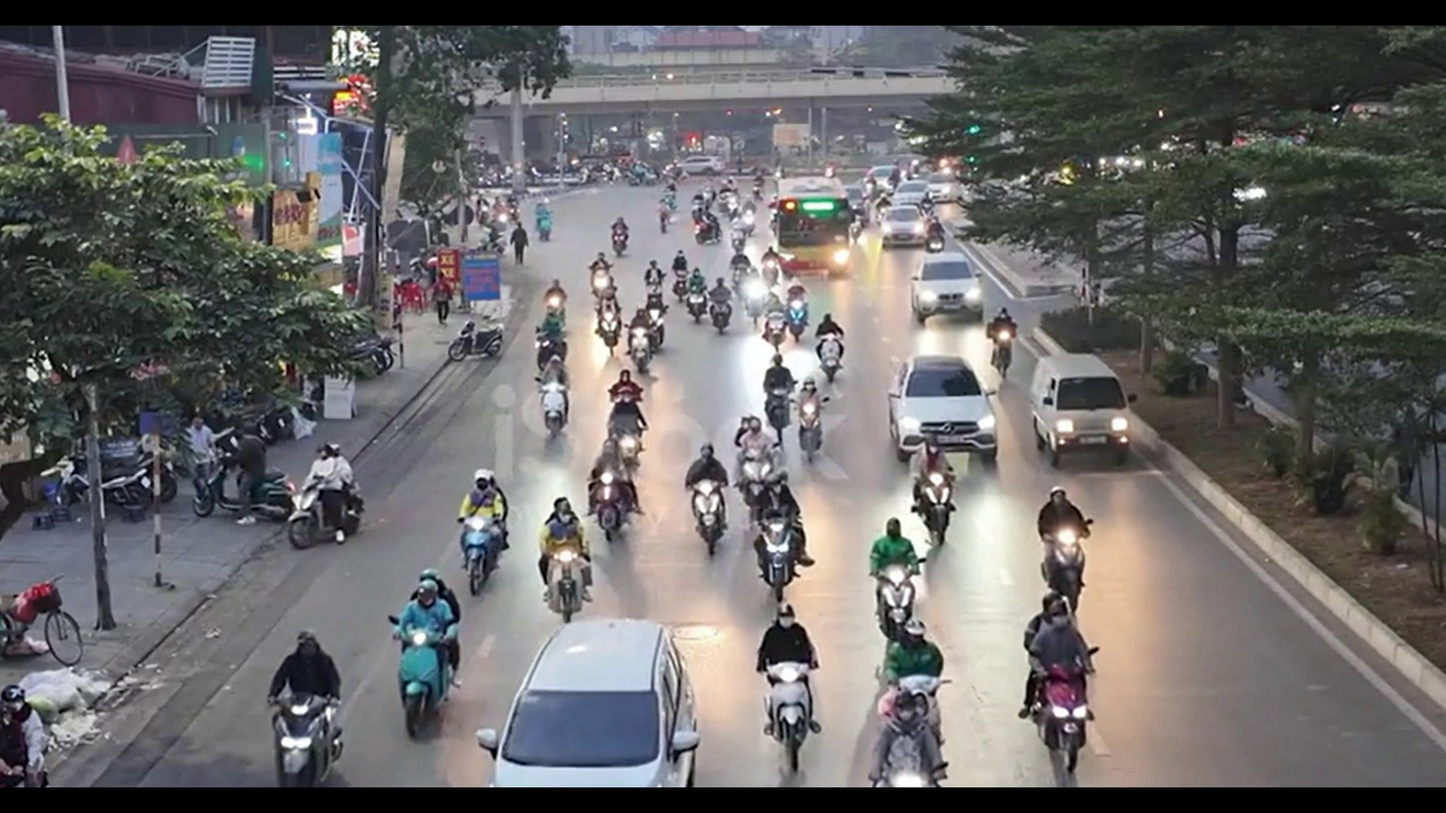bus: (770, 188, 856, 277)
car: (474, 615, 705, 787), (891, 356, 998, 459), (1032, 354, 1130, 461), (910, 253, 984, 326), (878, 205, 934, 249)
motorcycle: (859, 672, 948, 789), (1020, 657, 1093, 785), (268, 683, 345, 786), (0, 578, 86, 668), (762, 660, 822, 785), (398, 634, 457, 742), (284, 483, 363, 549), (911, 449, 958, 549), (753, 515, 804, 595), (540, 548, 592, 623), (459, 515, 507, 595), (689, 480, 728, 557)
truck: (1030, 353, 1131, 460)
